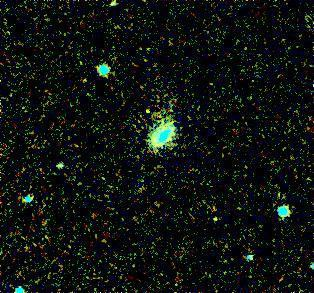star: (134, 94, 164, 124)
